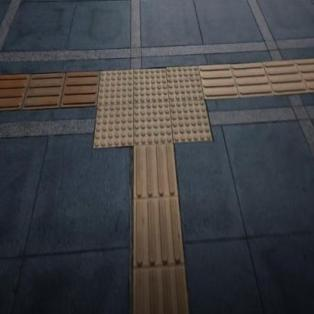Podoctatil: (70, 38, 254, 196), (135, 149, 186, 313), (206, 58, 314, 98), (0, 71, 97, 105)
